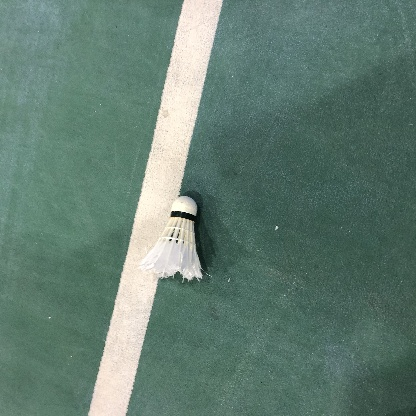ball_single: (139, 196, 202, 280)
